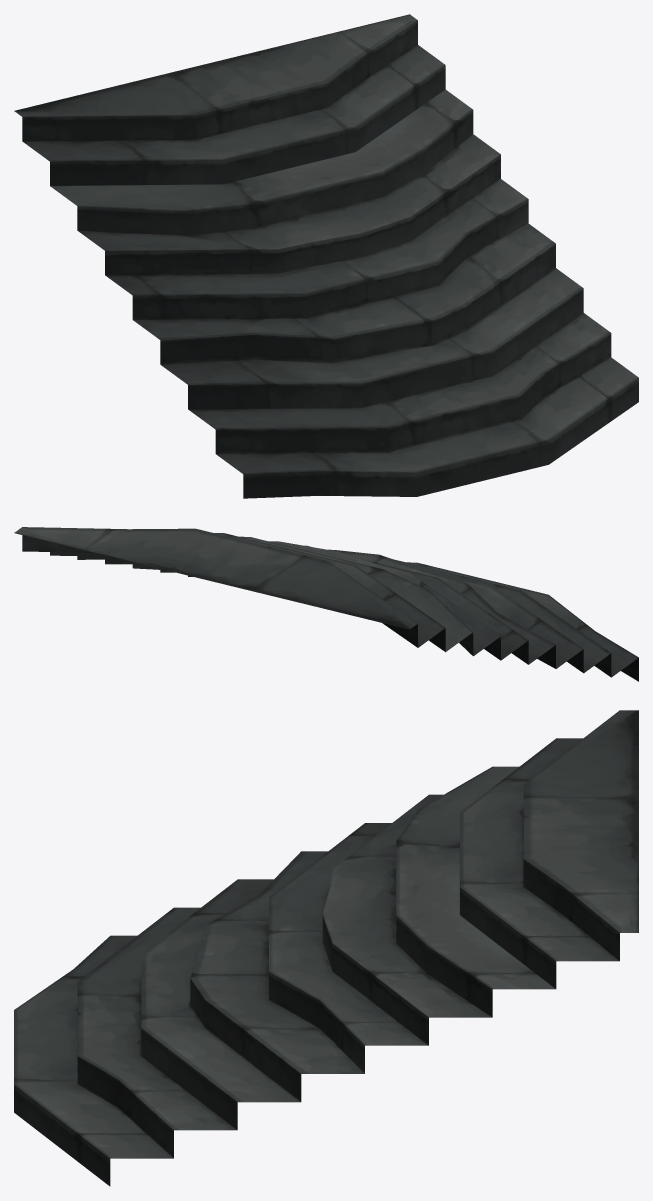
Rendered from sewer_stair002.FBX.
3 renders of one model, top to bottom at view 1: azimuth 30°, elevation 25°; view 2: azimuth 150°, elevation 25°; view 3: azimuth 270°, elevation 25°, orthographic. The views are drawn at different scales.
Parts seen in each view (by area): view 1: sewer_stair002; view 2: sewer_stair002; view 3: sewer_stair002.
Part boxes in pixels (left/top/right/bottom): sewer_stair002: left=14, top=14, right=638, bottom=498; sewer_stair002: left=14, top=527, right=638, bottom=681; sewer_stair002: left=14, top=710, right=638, bottom=1186.
Bounding box in the file's own units: 676 × 359 × 801.
